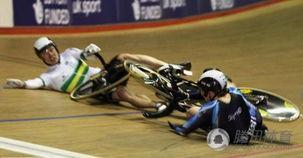Fall-Detected: (11, 26, 190, 113)
